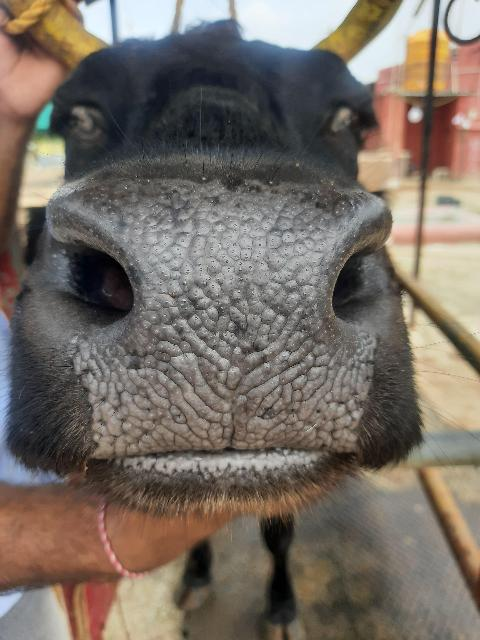Muzzle: (128, 205, 334, 449)
